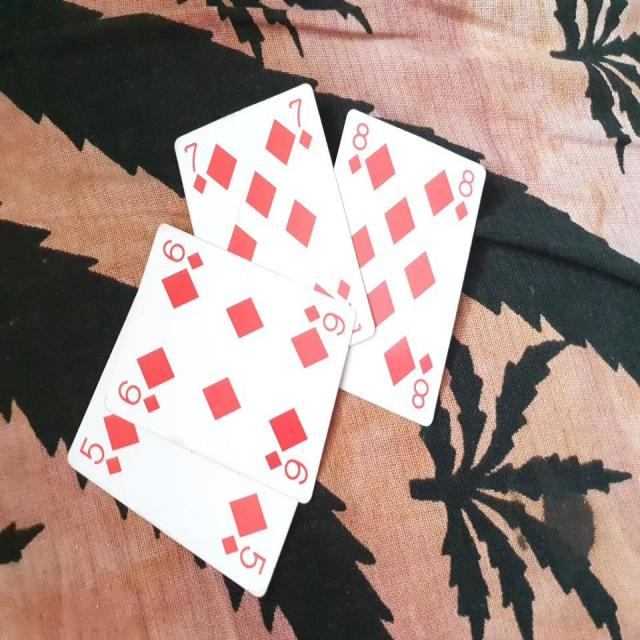5 Diamonds: (64, 378, 297, 604)
6 Diamonds: (107, 218, 354, 505)
7 Diamonds: (173, 78, 376, 345)
8 Diamonds: (334, 106, 487, 428)
